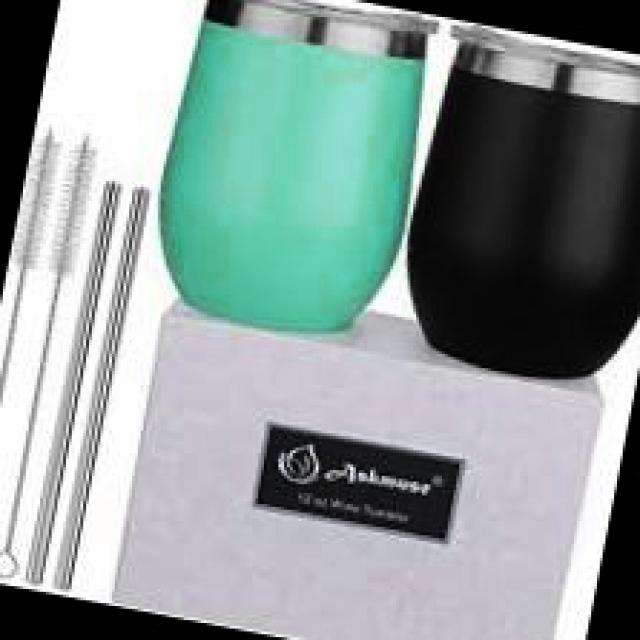bottle: (132, 0, 445, 351), (379, 17, 640, 399)
